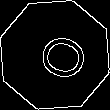O_W: (24, 26, 86, 84)
